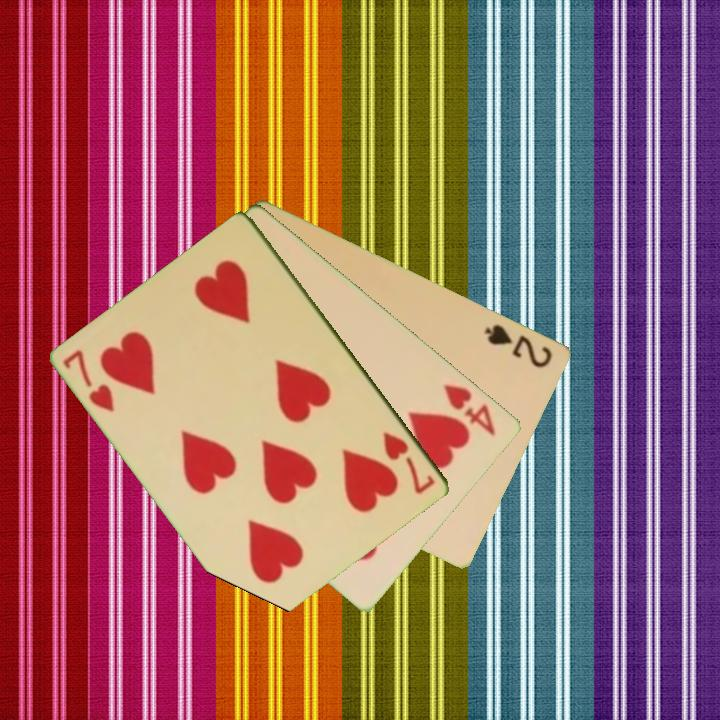2s: (481, 320, 556, 371)
4h: (440, 380, 500, 438)
7h: (380, 427, 439, 498), (59, 346, 118, 415)
